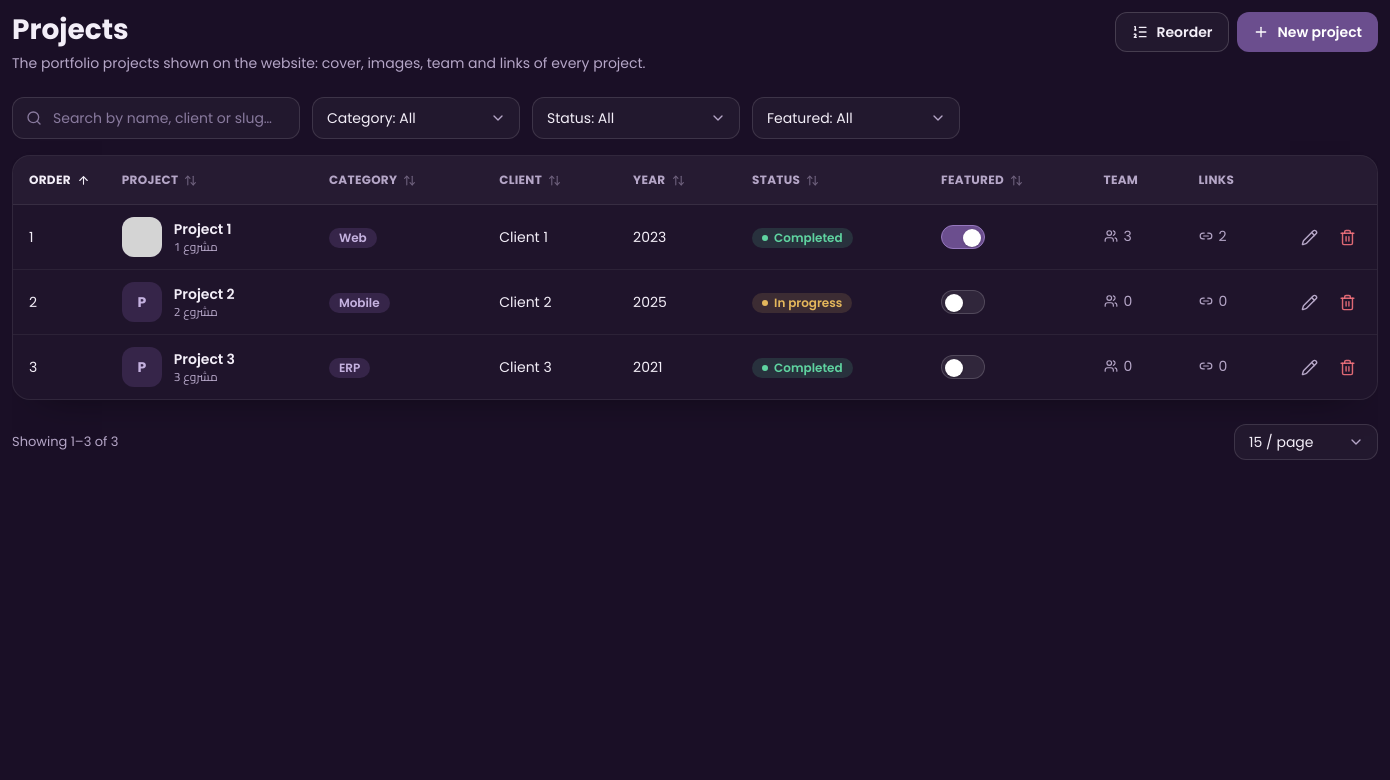
Test: ProjectList › featured toggle › sends only `featured` and shows the saved toast
Check: the text "Project 2" is shown, box [174, 284, 235, 304]
Click the switch named "Featured: Project 2" at point(963, 302), box [941, 290, 985, 314]
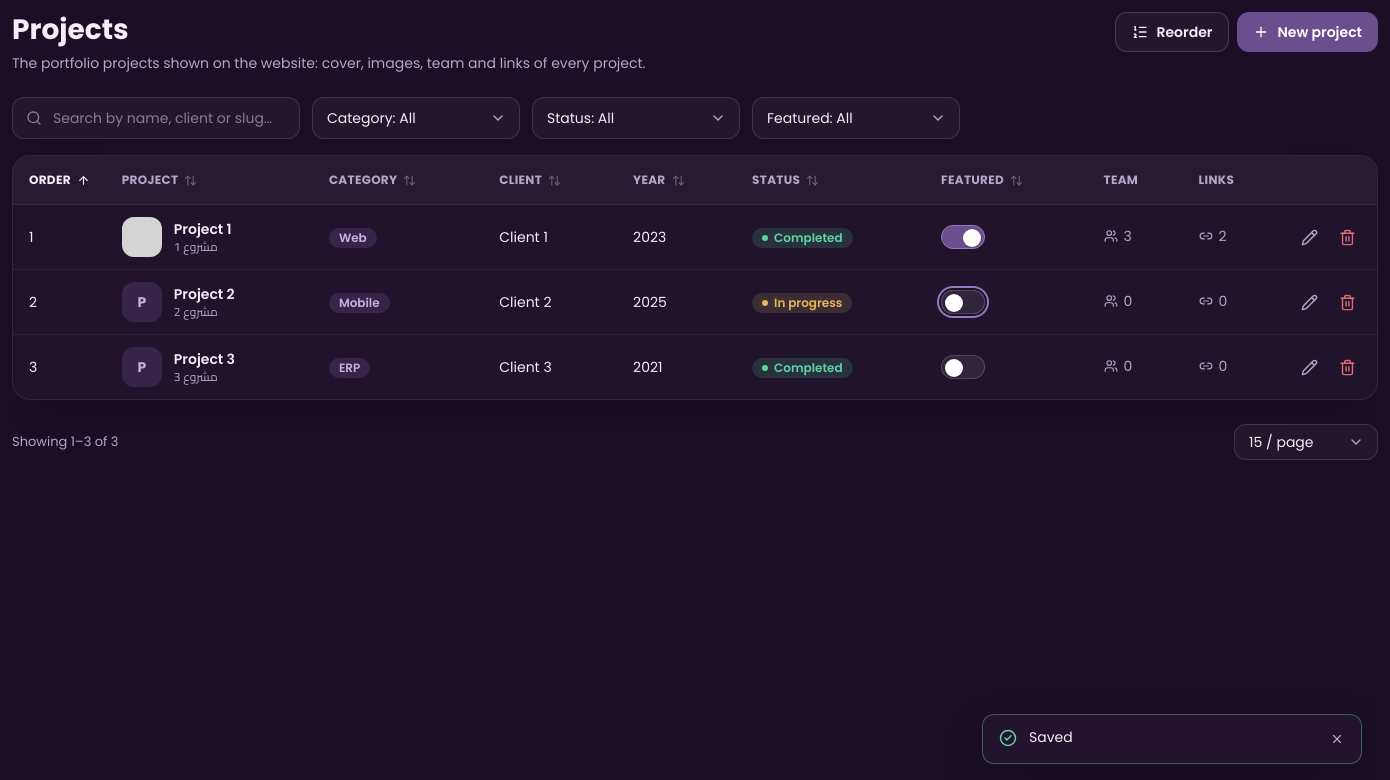
Check: the text "Saved" is shown, box [1029, 727, 1073, 747]
